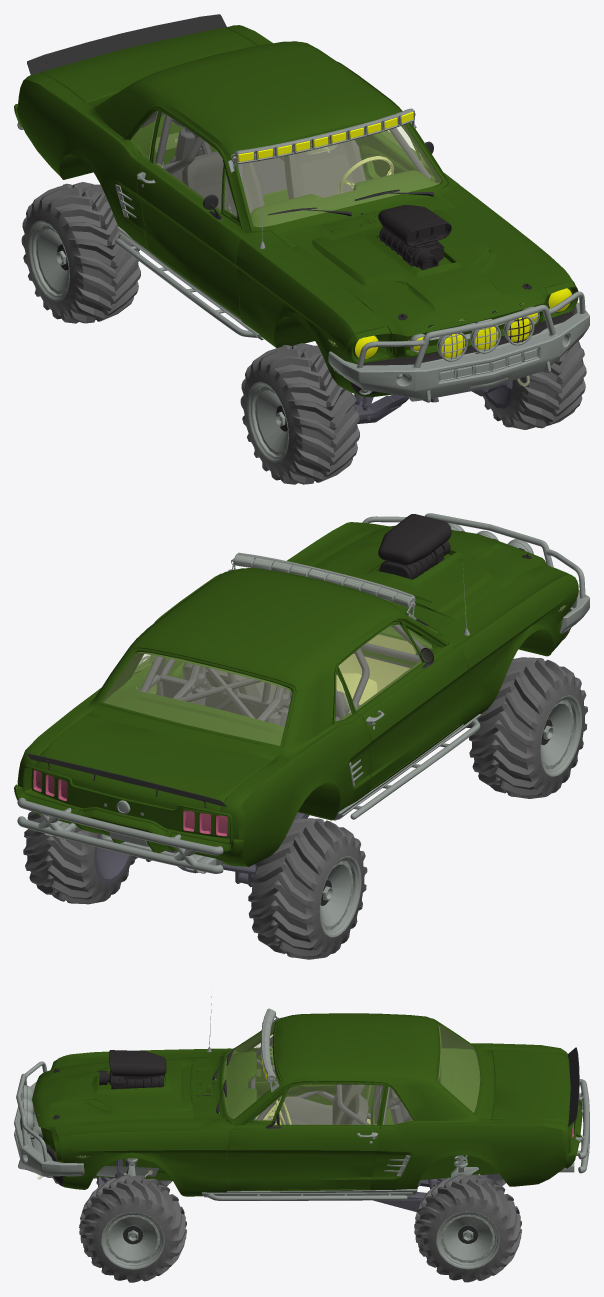
File: time2drag.glb
3 views of the same model, one above another, from view 1: azimuth 30°, elevation 25°; view 2: azimuth 150°, elevation 25°; view 3: azimuth 270°, elevation 25° (orthographic). The views are drawn at different scales.
Visible parts, largest first — view 1: Truck, windows, WheelFR, WheelRR, WheelFL; view 2: Truck, windows, WheelRR, WheelFR, WheelRL; view 3: Truck, windows, WheelRL, WheelFL.
Part boxes in pixels (<box>): Truck: <box>14,14,589,423</box>; windows: <box>130,111,441,226</box>; WheelFR: <box>240,343,359,484</box>; WheelRR: <box>21,182,140,323</box>; WheelFL: <box>482,340,586,429</box>; Truck: <box>14,513,589,887</box>; windows: <box>102,624,431,745</box>; WheelRR: <box>248,818,367,959</box>; WheelFR: <box>469,657,587,798</box>; WheelRL: <box>23,811,135,904</box>; Truck: <box>14,996,589,1212</box>; windows: <box>223,1023,479,1124</box>; WheelRL: <box>414,1174,522,1282</box>; WheelFL: <box>79,1174,186,1282</box>.
Size of the model in its own units: 1.78 by 1.61 by 4.
